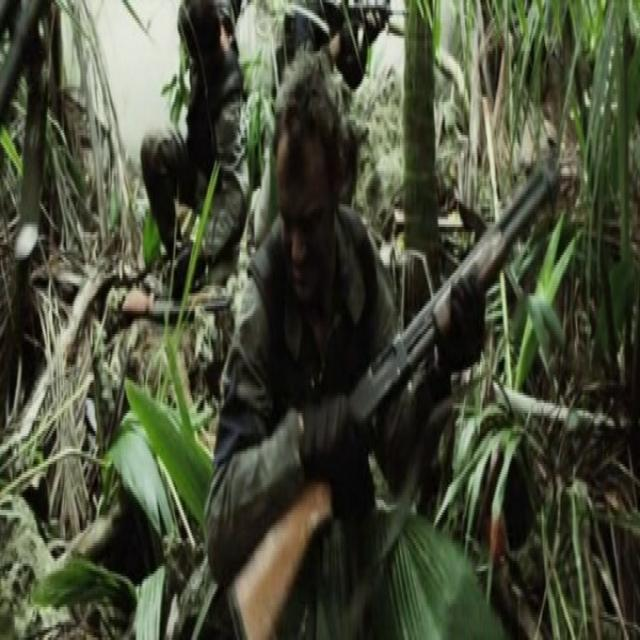rifle: (227, 146, 563, 640)
